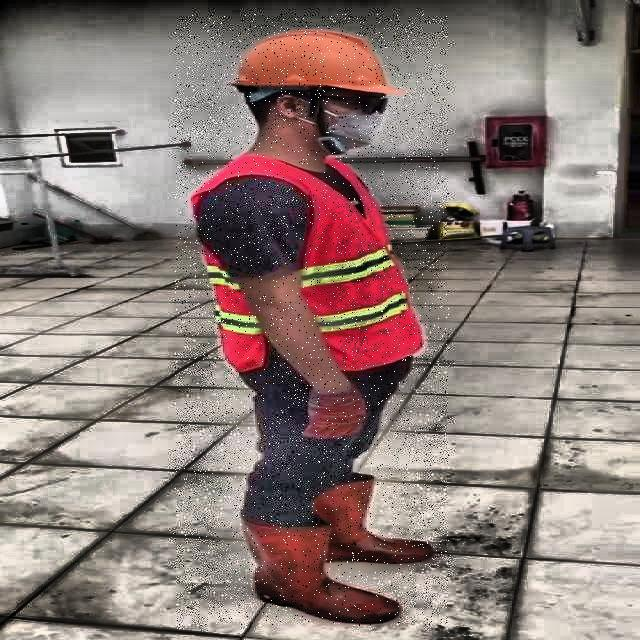safety_helmet: (226, 24, 394, 94)
safety_jacket: (181, 162, 433, 368)
